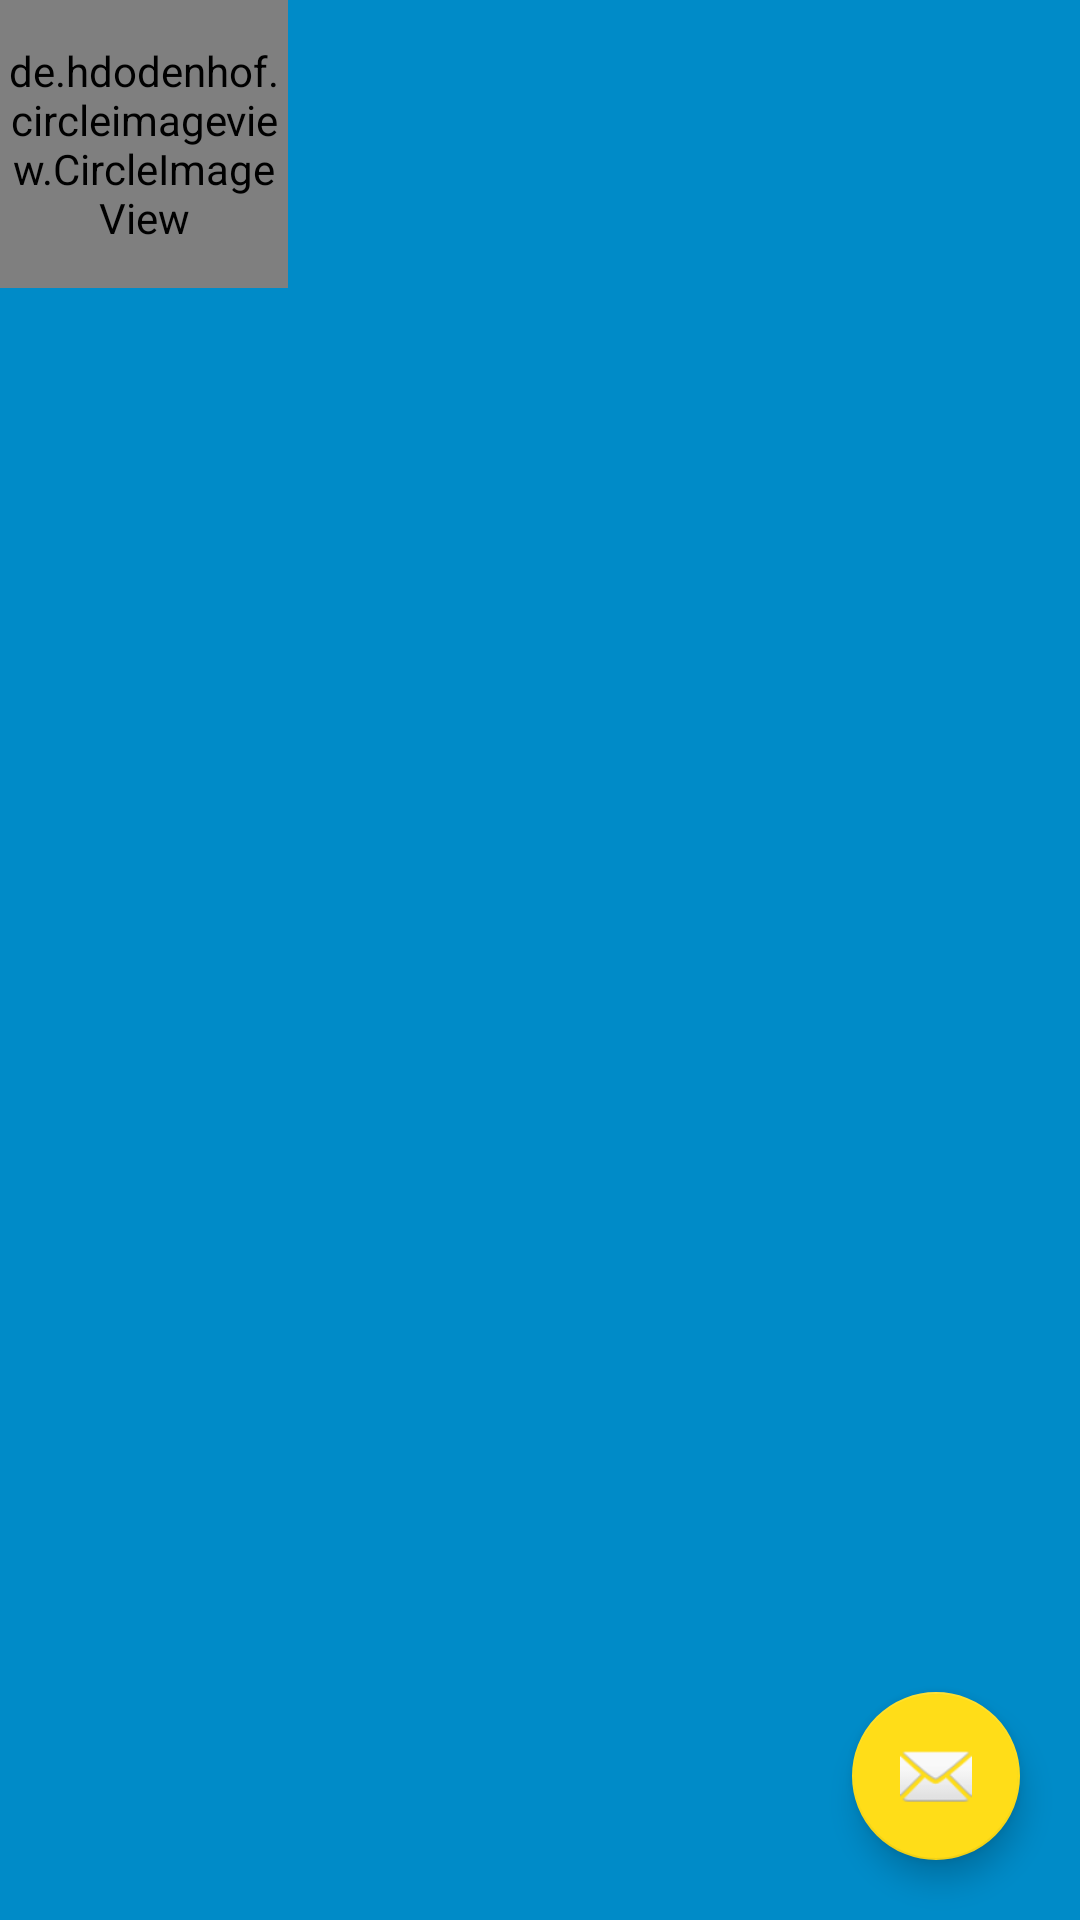

Where icons sit on this 1080 x 1920 app screen, as BBox(x1, y1, x2, y2):
email: BBox(852, 1692, 1020, 1860)
